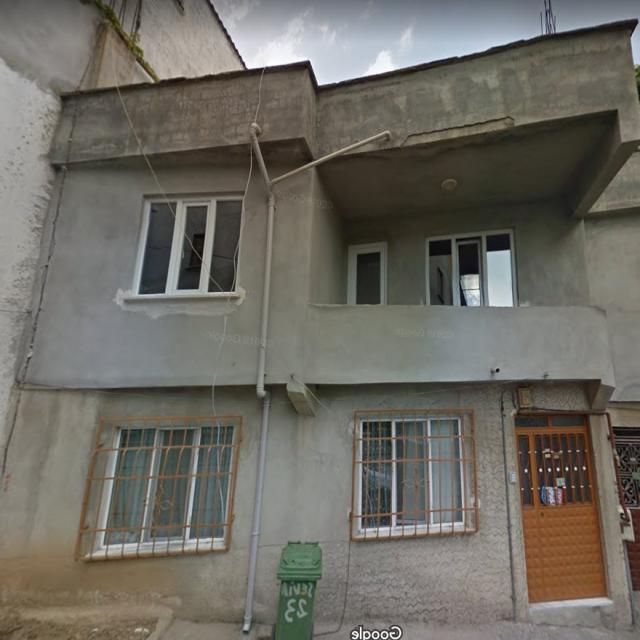Building: (0, 21, 640, 626)
